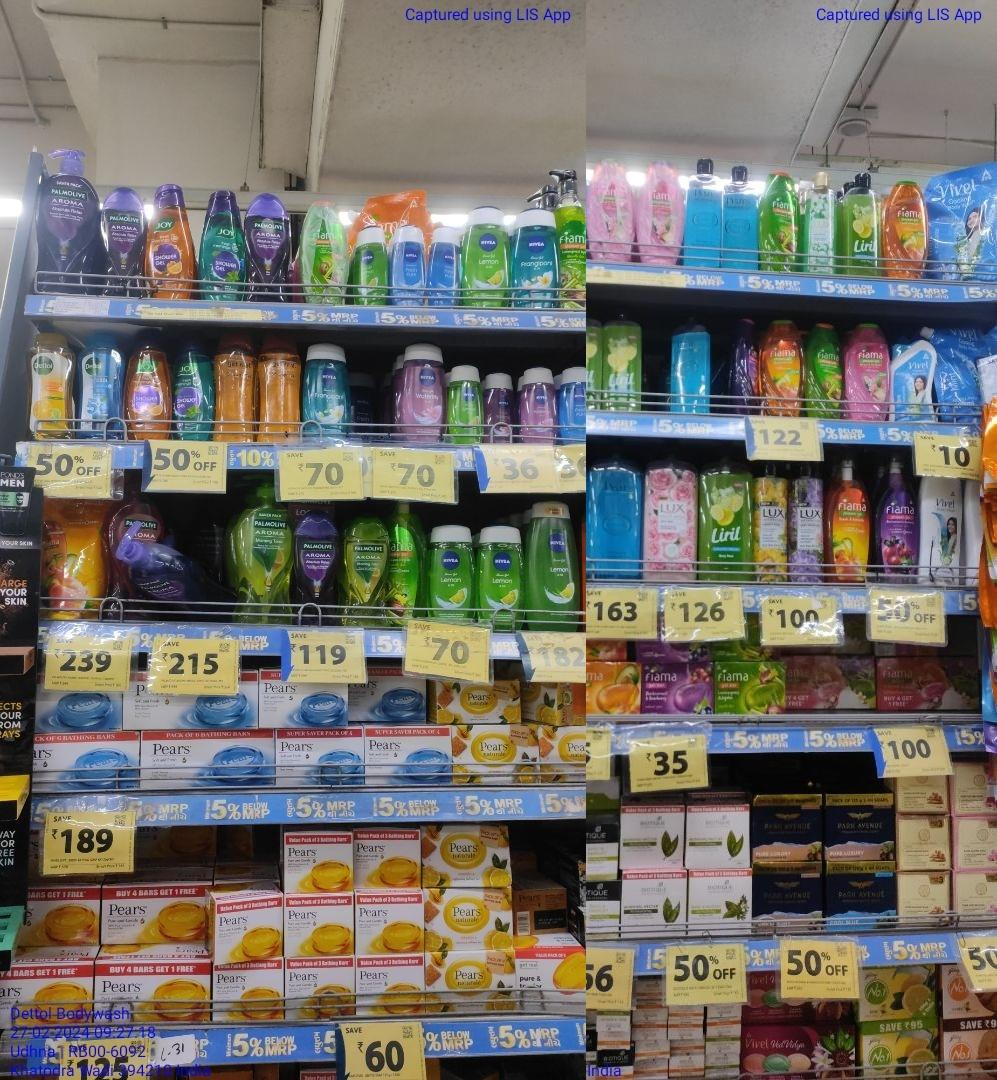Dettol_Bodywash_Cool: (80, 328, 122, 440)
Dettol_Bodywash_Refresh: (28, 330, 75, 441)
Fiama_Shower_Gel_Lemongrass_and_Jojoba_250ML: (761, 169, 799, 276), (805, 318, 842, 418)
Fiama_Shower_Gel_Patchouli_and_Macadamia_250ML: (639, 155, 681, 268), (591, 152, 630, 260), (850, 319, 890, 421)
Fiama_Shower_Gel_Peach_and_Avocado_250ML: (885, 179, 929, 280), (761, 317, 803, 416)
Get_Real_Shower_Gel_Moisturising_Glycerin_300ML: (257, 329, 300, 445), (215, 333, 257, 445)
Joy_Shower_Gel_Mandarin_and_Lemongrass_250ML: (149, 182, 193, 301), (125, 329, 171, 439)
Joy_Shower_Gel_Mint_and_Eucalyptus_250ML: (200, 186, 242, 302), (173, 330, 213, 438)
Liril_Lime_and_Tea_Tree_Oil_Body_Wash_250ML: (604, 309, 644, 412), (842, 171, 879, 279)
Lux_Body_Wash_Skin_Detox_Freesia_Scent_and_Alove_Vera_245ML: (804, 171, 839, 278)
Nivea_Shower_Gel_Frangipani_and_Oil_250ML: (513, 207, 560, 310), (303, 341, 352, 439)
Nivea_Shower_Gel_Lemon_and_Oil_250ML: (530, 494, 578, 633), (478, 521, 526, 627), (428, 523, 477, 624), (467, 206, 511, 308), (352, 222, 389, 310), (448, 362, 483, 445)
Nivea_Shower_Gel_Waterlily_and_Oil_250ML: (403, 342, 442, 444), (520, 367, 560, 445)
Palmolive_Aroma_Morning_Tonic_Shower_Gel_250ML: (345, 515, 390, 627)
Palmolive_Aroma_Relax_250ML: (294, 511, 339, 628), (102, 186, 147, 299), (247, 191, 291, 302)
Pears_Pure_Glycerin_and_Mint_Extracts_Body_Wash_250ML: (685, 154, 724, 268), (667, 311, 708, 415), (727, 160, 759, 273)
